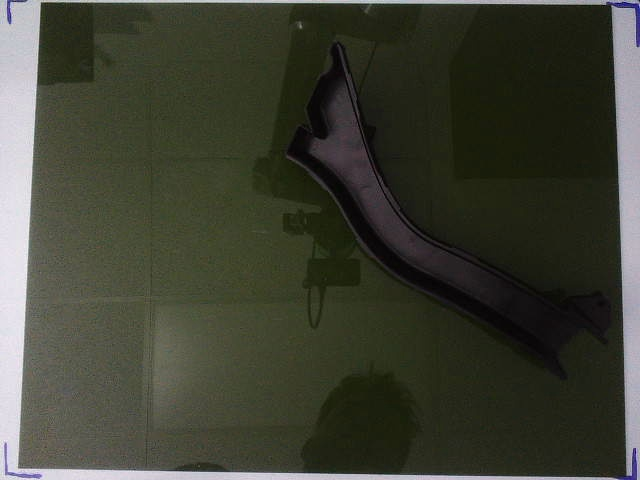887_A-Under: (286, 42, 610, 380)
